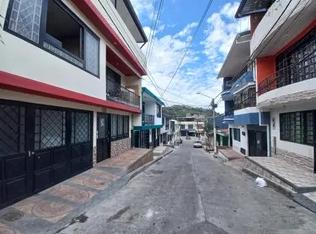casa: (0, 0, 135, 208), (258, 1, 315, 202), (219, 32, 266, 165), (139, 86, 159, 156), (176, 116, 199, 141)
